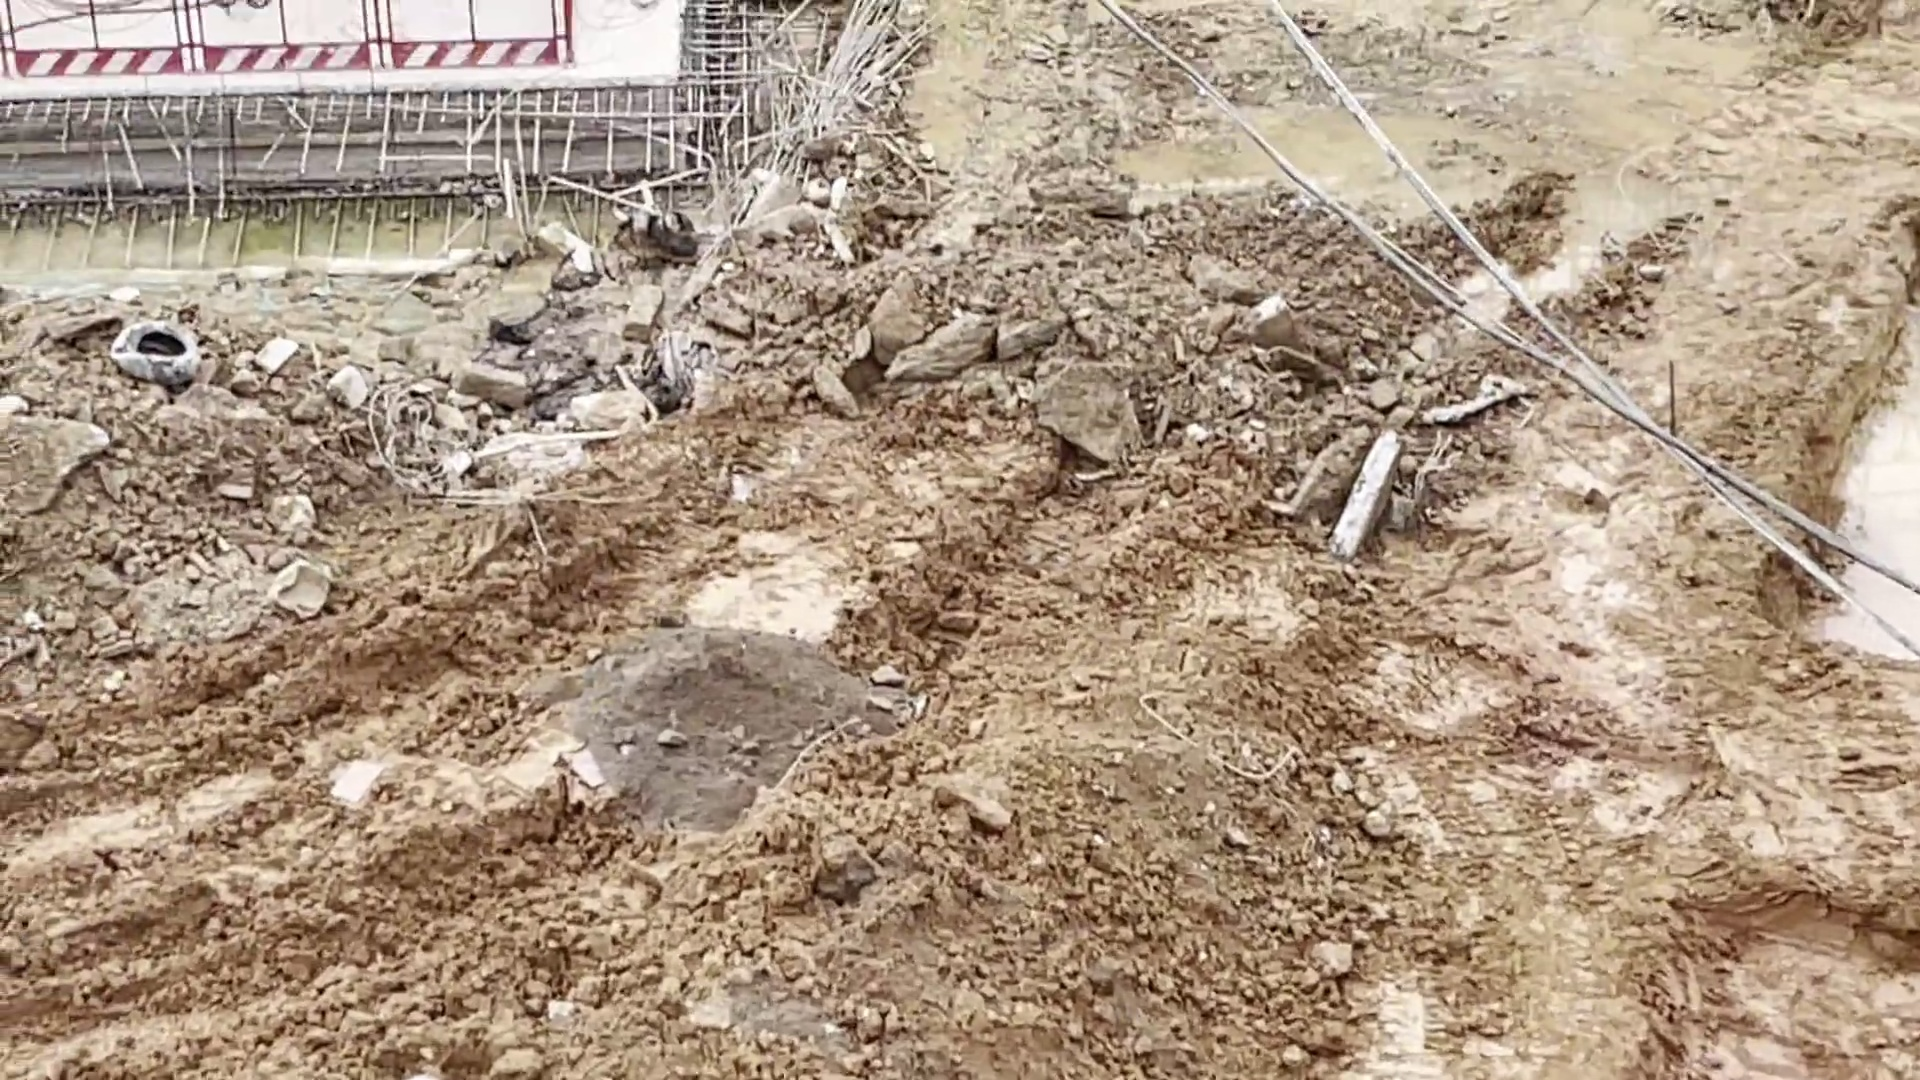fence: (5, 1, 574, 78)
